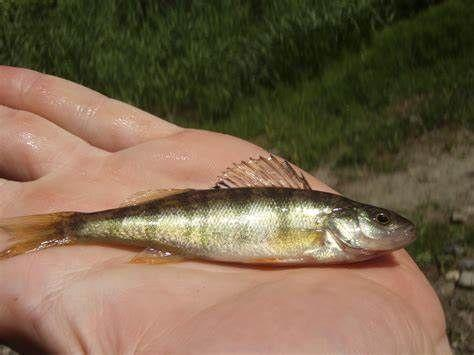Perch: (2, 153, 424, 276)
